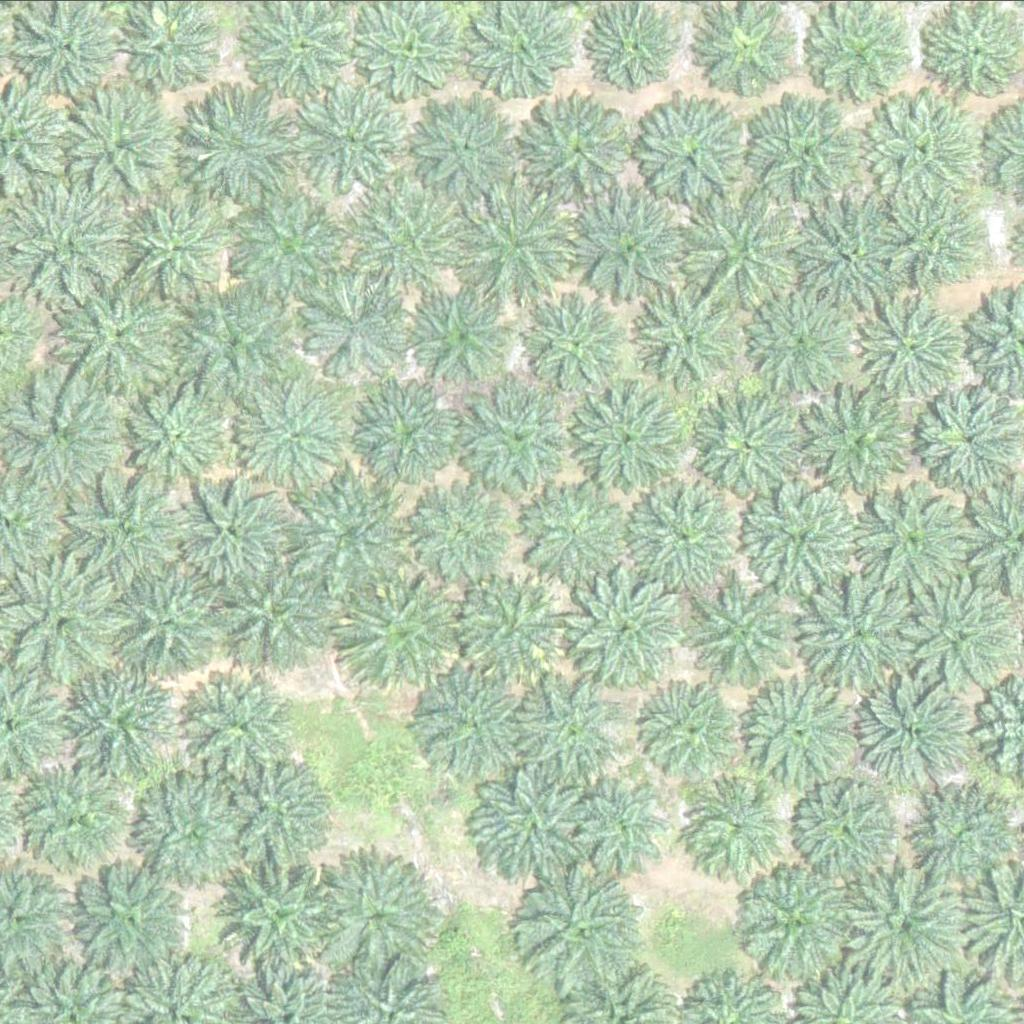Kelapa_Sawit: (213, 854, 339, 979), (317, 850, 443, 975), (2, 561, 128, 686), (58, 265, 184, 390), (866, 91, 992, 216), (471, 763, 597, 888), (524, 869, 650, 994), (842, 862, 968, 987), (732, 860, 858, 985), (13, 762, 138, 887), (131, 773, 256, 898), (346, 570, 471, 695), (411, 95, 525, 208), (76, 865, 189, 978), (221, 759, 334, 872), (178, 472, 291, 585), (74, 475, 187, 588), (358, 376, 471, 489), (10, 185, 123, 298), (187, 91, 300, 204), (67, 88, 180, 201), (680, 191, 793, 304), (793, 199, 906, 312), (858, 290, 971, 403), (569, 386, 682, 499), (565, 568, 678, 681), (692, 571, 805, 684), (805, 577, 918, 690), (739, 678, 852, 791), (856, 484, 969, 597), (8, 375, 122, 487), (187, 287, 301, 399), (238, 192, 352, 304), (297, 78, 411, 190), (519, 96, 633, 208), (632, 101, 746, 213), (458, 187, 572, 299), (861, 678, 975, 790), (184, 669, 297, 781), (59, 662, 172, 774), (116, 565, 229, 677), (214, 558, 327, 670), (301, 476, 414, 588), (358, 188, 471, 300), (744, 96, 857, 208), (577, 194, 690, 306), (690, 391, 803, 503), (808, 384, 921, 496), (517, 478, 630, 590), (627, 477, 740, 589), (743, 479, 856, 591), (243, 381, 344, 481), (414, 287, 515, 387), (525, 294, 626, 394), (632, 290, 733, 390), (749, 292, 850, 392), (467, 386, 568, 486), (410, 483, 511, 583), (460, 577, 561, 677), (422, 667, 523, 767), (520, 679, 621, 779), (641, 683, 742, 783), (573, 777, 674, 877), (126, 388, 226, 488), (311, 281, 411, 381), (122, 195, 222, 295), (688, 779, 788, 879), (797, 781, 897, 881), (920, 796, 1020, 896), (897, 208, 972, 283)
